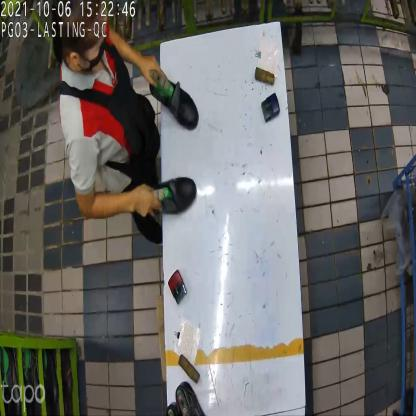shoes: (140, 67, 200, 219)
stamp: (260, 91, 280, 126), (170, 271, 188, 303)
